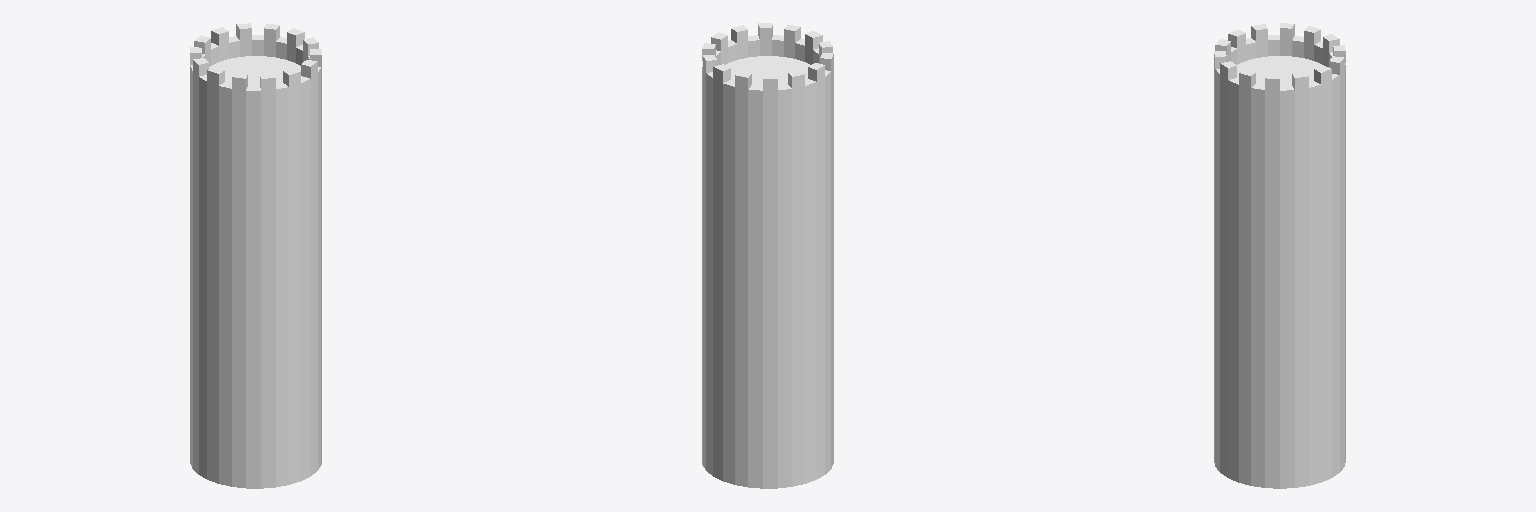
Rendered from wieza_zakonczona.obj.
3 renders of one model, left to right at view 1: azimuth 30°, elevation 25°; view 2: azimuth 150°, elevation 25°; view 3: azimuth 270°, elevation 25°, orthographic.
Visible parts, largest first — view 1: wieza; view 2: wieza; view 3: wieza.
Part boxes in pixels (bbox=[...]): wieza: bbox=[190, 23, 321, 488]; wieza: bbox=[702, 23, 833, 488]; wieza: bbox=[1214, 23, 1345, 488].
Size of the model in its own units: 8.2 by 28 by 8.2.